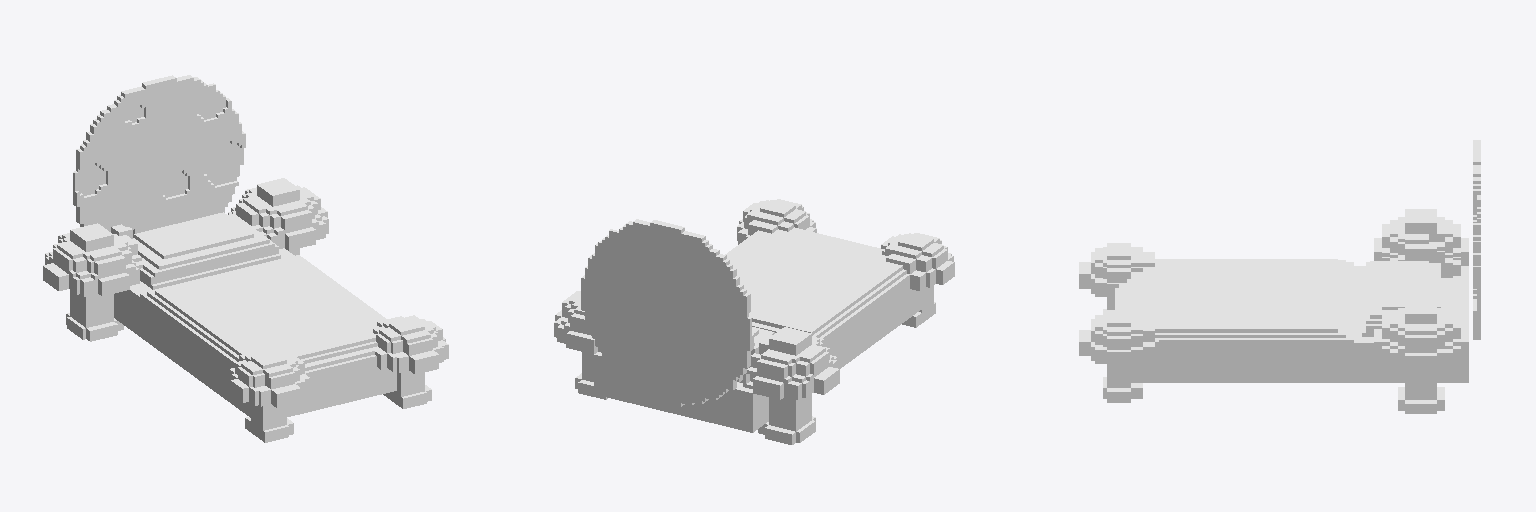
Rendered from Bed_01.obj.
3 renders of one model, left to right at view 1: azimuth 30°, elevation 25°; view 2: azimuth 150°, elevation 25°; view 3: azimuth 270°, elevation 25°, orthographic.
Parts seen in each view (by area): view 1: Bed_01; view 2: Bed_01; view 3: Bed_01.
Part boxes in pixels (x1,y1,x2,y2): Bed_01: (43, 75, 448, 442); Bed_01: (554, 199, 954, 444); Bed_01: (1079, 140, 1480, 413).
Bounding box in the file's own units: 78 × 57 × 101.